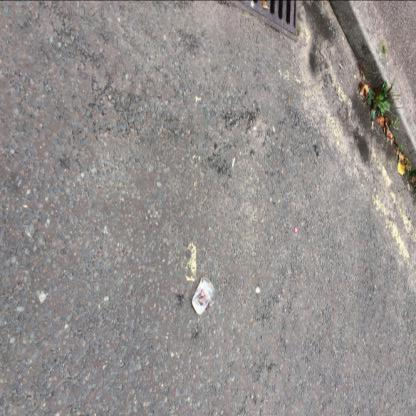Cigarette: (340, 63, 344, 68), (371, 121, 373, 129)
Cup: (192, 276, 216, 314)
Other plastic: (294, 226, 298, 232)
